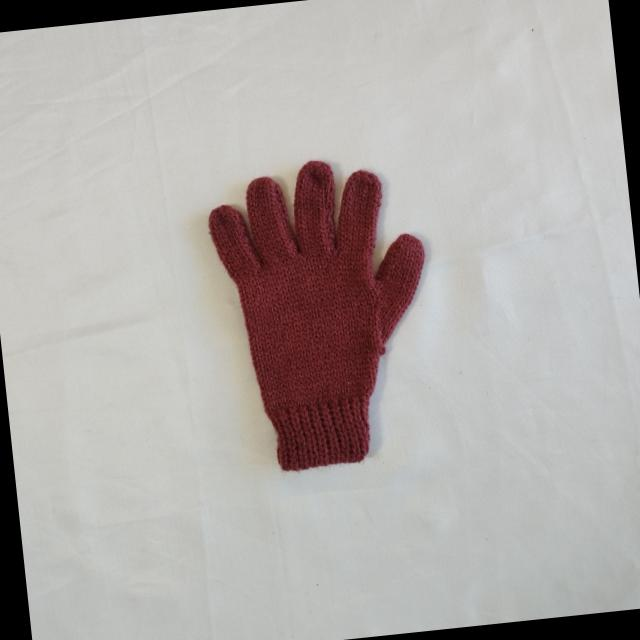Guante: (201, 149, 447, 479)
